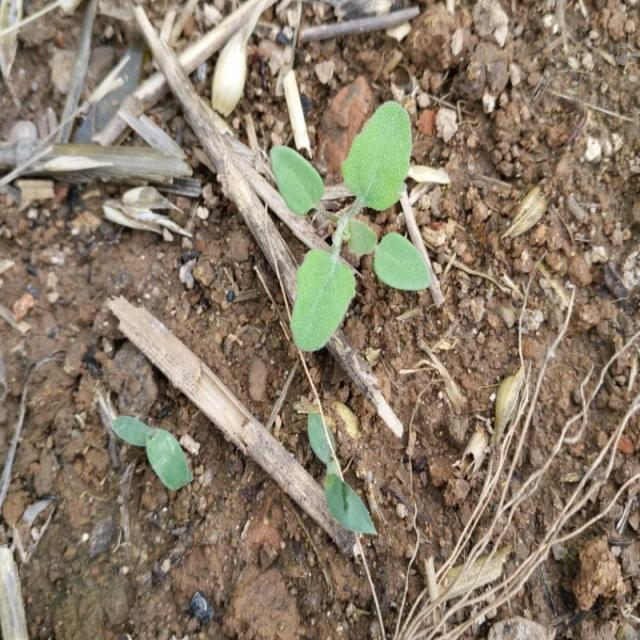ca: (273, 102, 433, 352)
